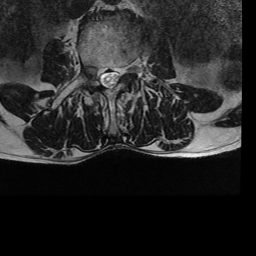CCS_normal: (105, 59, 113, 95)
LFS_normal: (121, 55, 130, 82)
LLS_normal: (112, 57, 121, 90)
RFS_normal: (88, 57, 97, 83)
RLS_normal: (97, 57, 105, 92)
